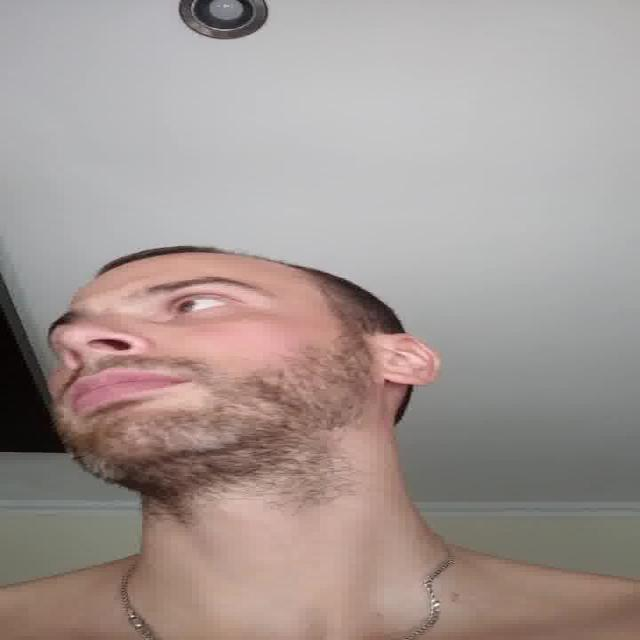earlobe: (375, 332, 443, 387)
